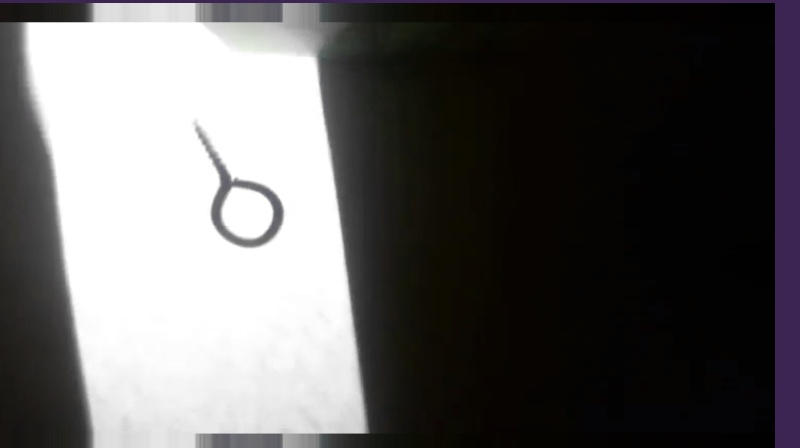O001: (184, 116, 286, 249)
